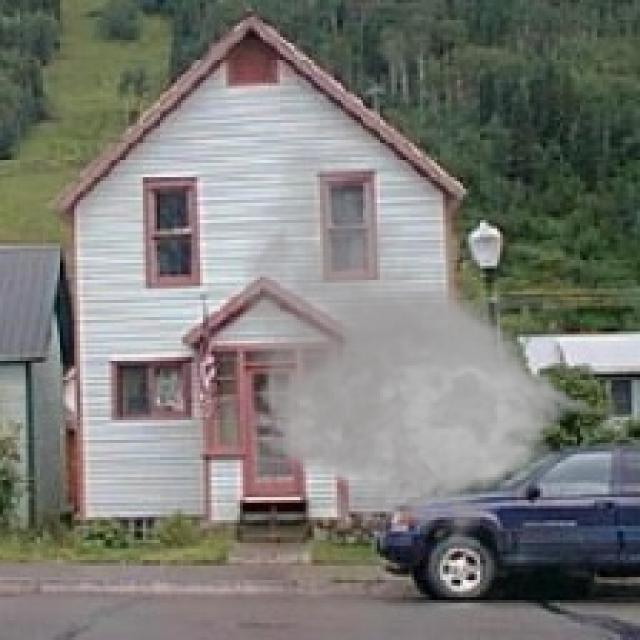Smoke: (217, 134, 623, 557)
